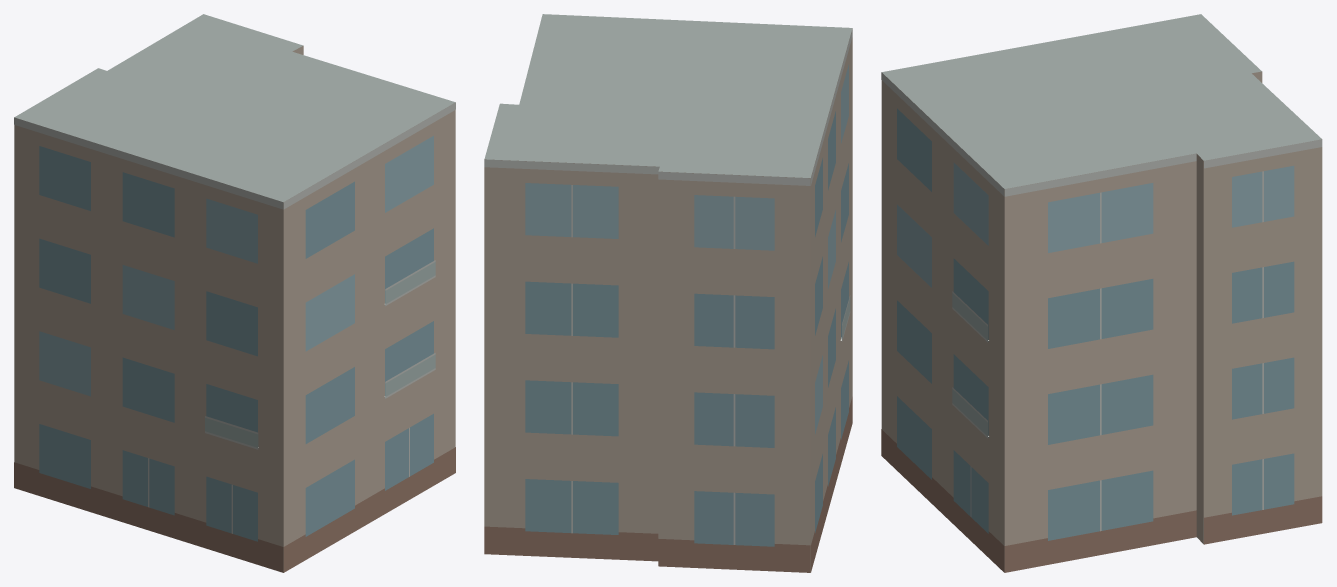
The model's file is survey-upis-32590941.glb.
3 renders of one model, left to right at view 1: azimuth 30°, elevation 25°; view 2: azimuth 150°, elevation 25°; view 3: azimuth 270°, elevation 25°, orthographic. The views are drawn at different scales.
Visible parts, largest first — view 1: survey-upis-32590941.tmp; view 2: survey-upis-32590941.tmp; view 3: survey-upis-32590941.tmp.
Part boxes in pixels (x1,y1,x2,y2): survey-upis-32590941.tmp: (14, 14, 455, 572); survey-upis-32590941.tmp: (484, 14, 852, 572); survey-upis-32590941.tmp: (881, 14, 1322, 572).
Bounding box in the file's own units: 11.95 × 12.2 × 12.71.
